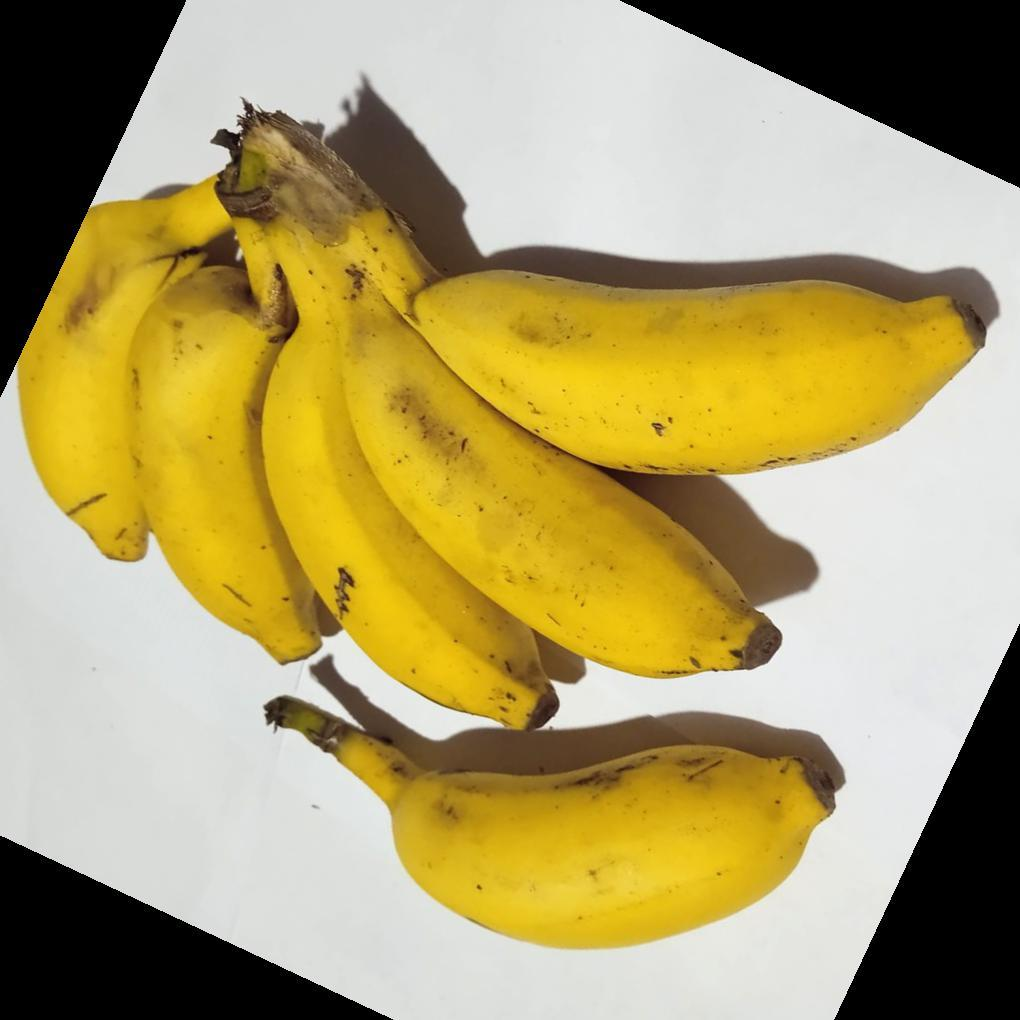Banana Ripe: (213, 583, 920, 1020), (263, 104, 1020, 495), (306, 251, 809, 739), (9, 150, 373, 727)
